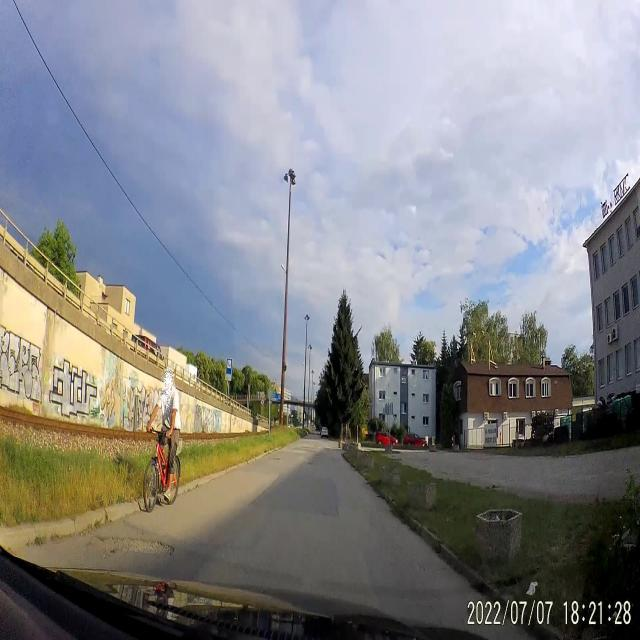Pothole: (89, 532, 174, 560)
